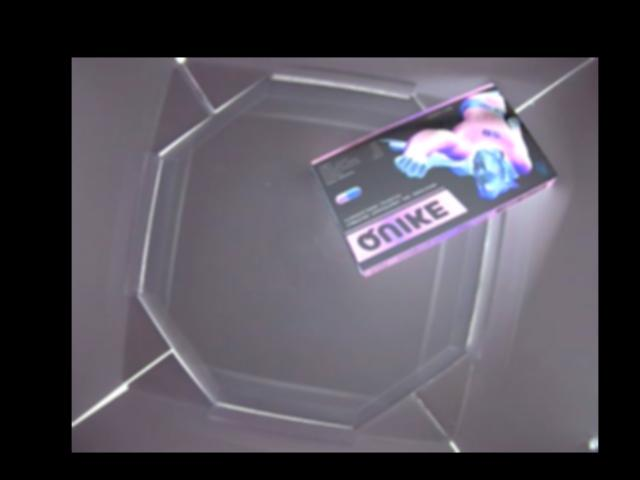Medicine: (311, 79, 558, 278)
